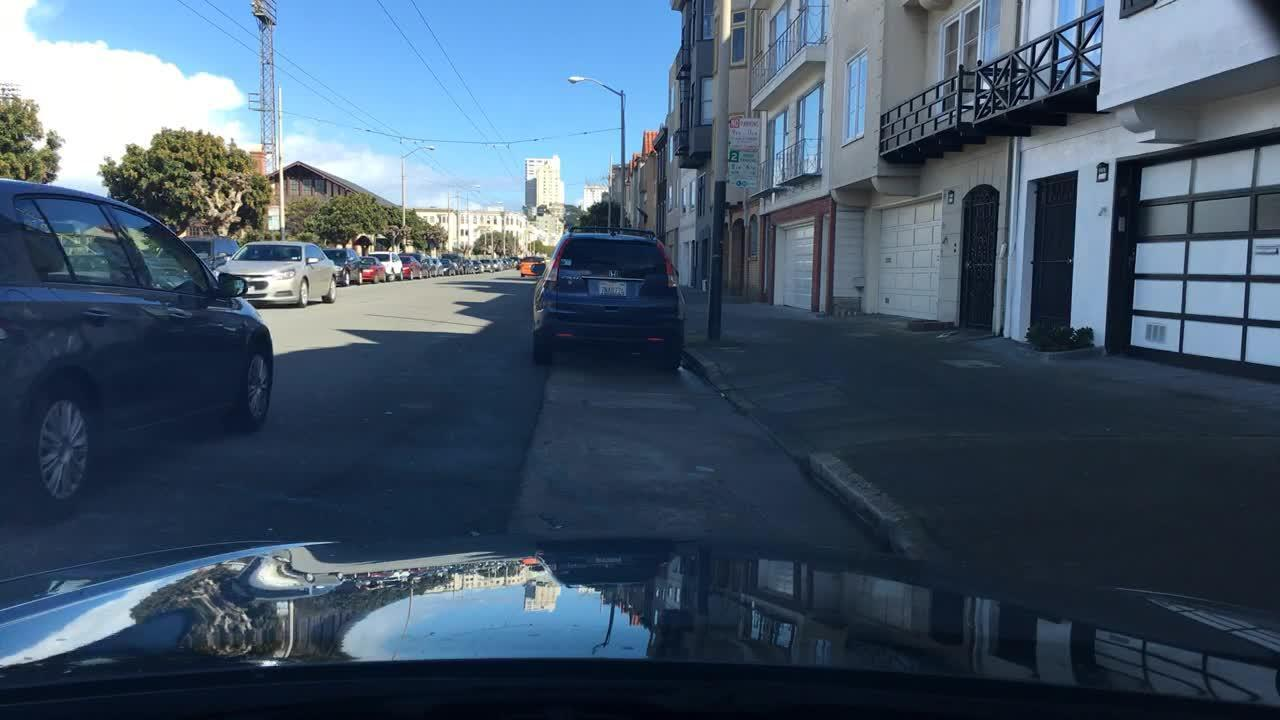Honda: (604, 264, 627, 286)
